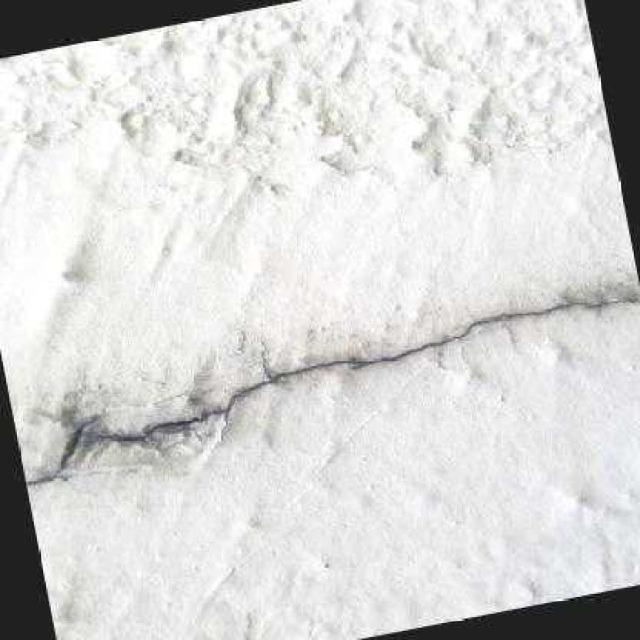D00: (90, 292, 640, 440), (25, 418, 96, 484)
